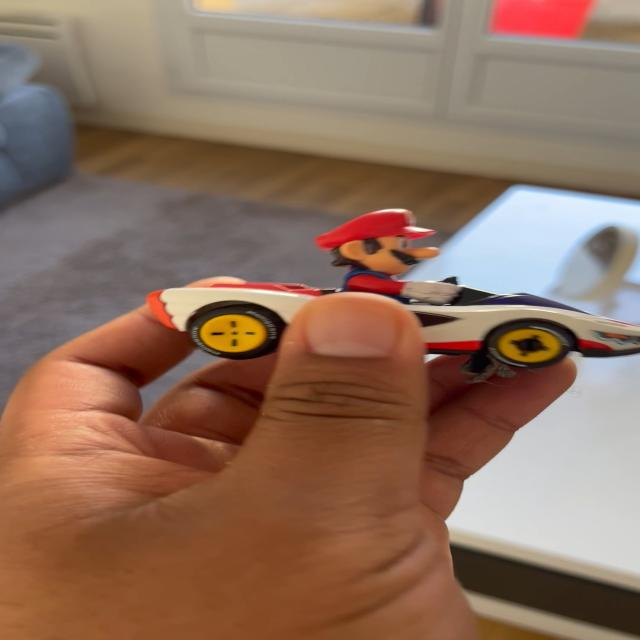mario: (170, 198, 603, 384)
